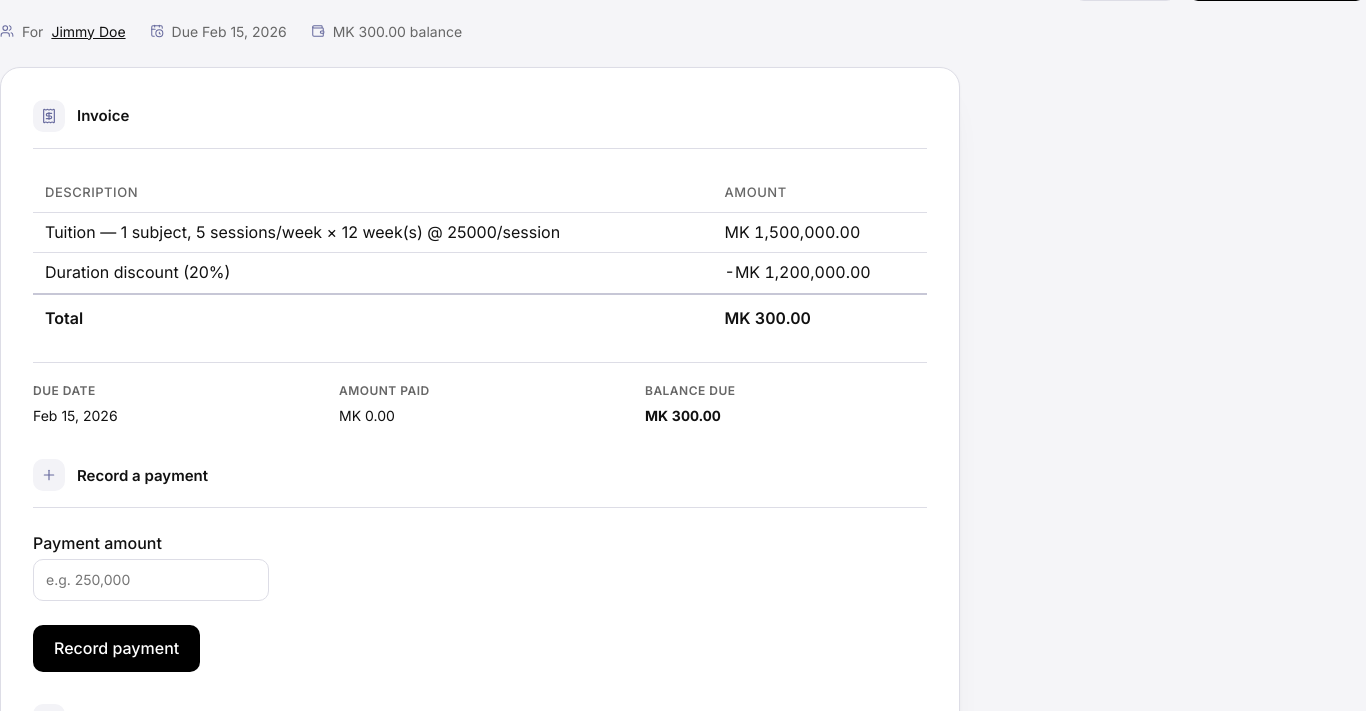
Scenario: InvoiceDetailPage › recording a payment updates the displayed invoice from the response
The image size is (1366, 711).
Expected: the link "Jimmy Doe" is shown, top-left (51, 20), bottom-right (126, 43)
In the field labelled "Payment amount": (151, 580) top-left (33, 559), bottom-right (269, 600), type "100.00"
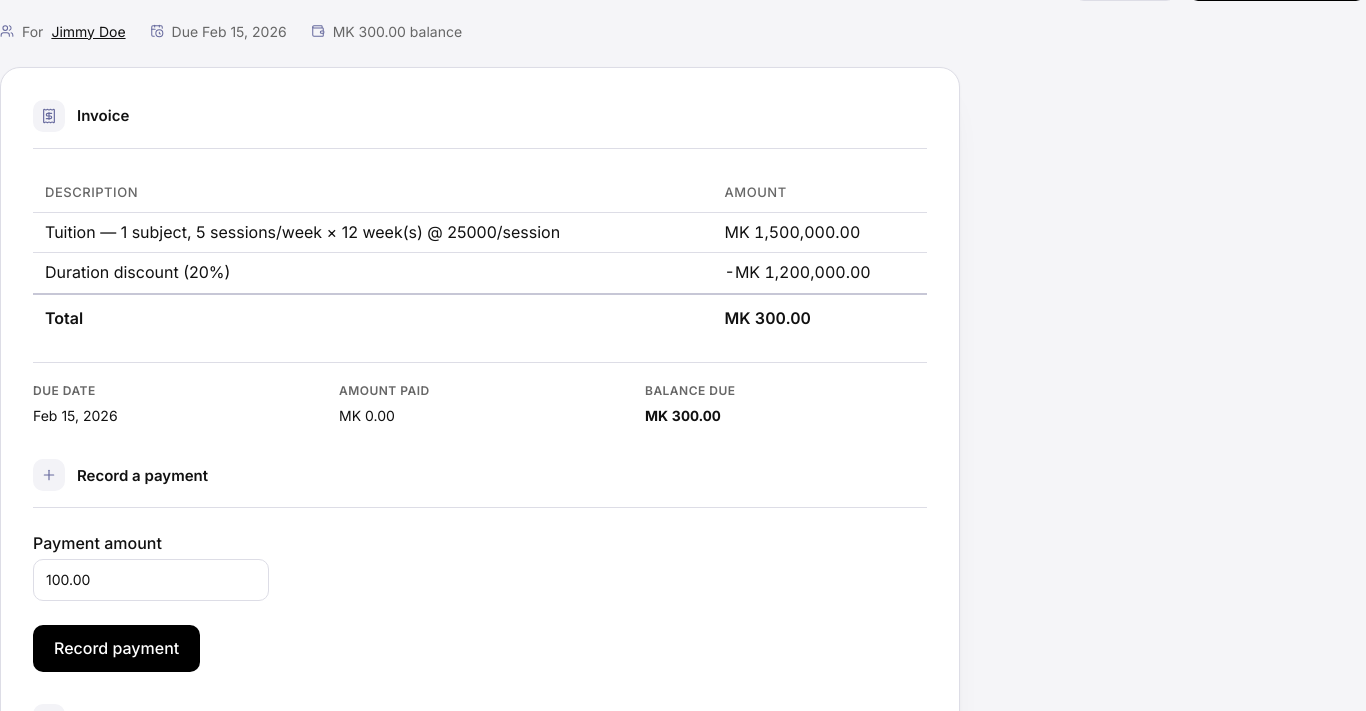
Click the button "Record payment": (117, 648) top-left (33, 624), bottom-right (200, 672)
(page scrolled)
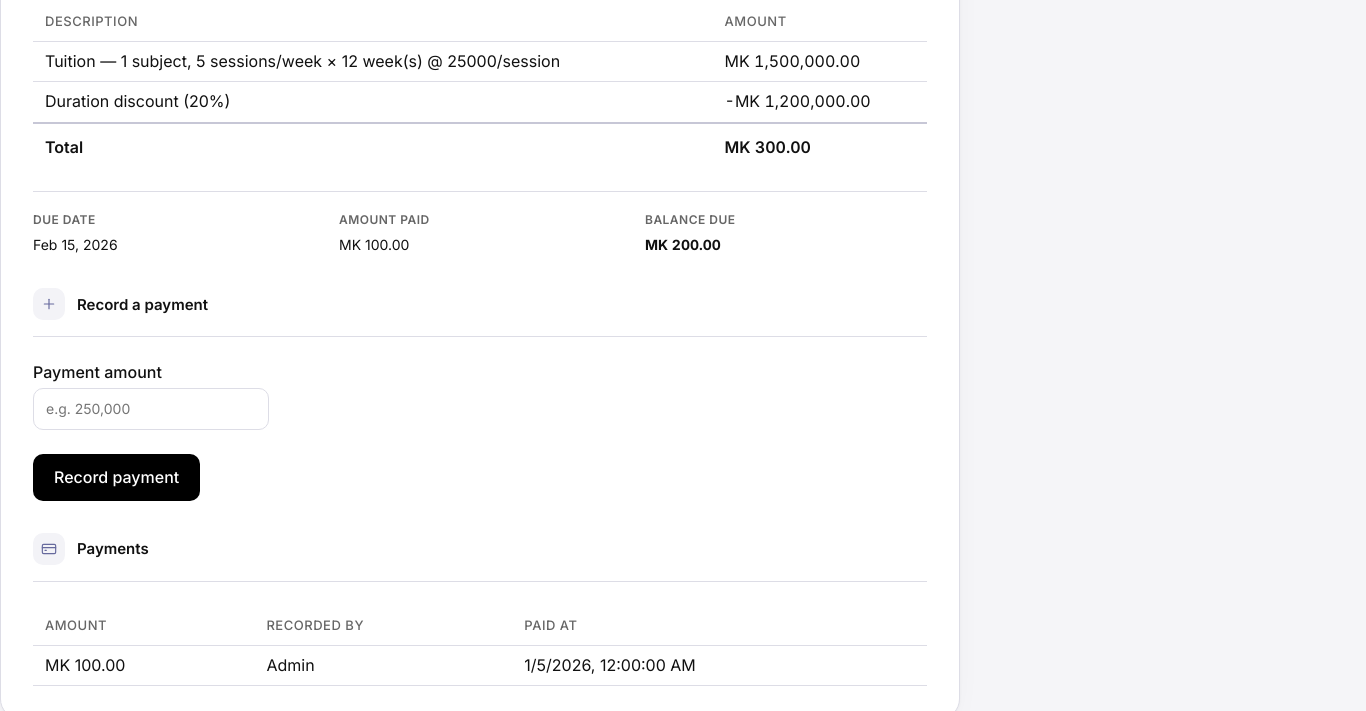
Expected: the text "Admin" is shown, top-left (254, 645), bottom-right (512, 686)
